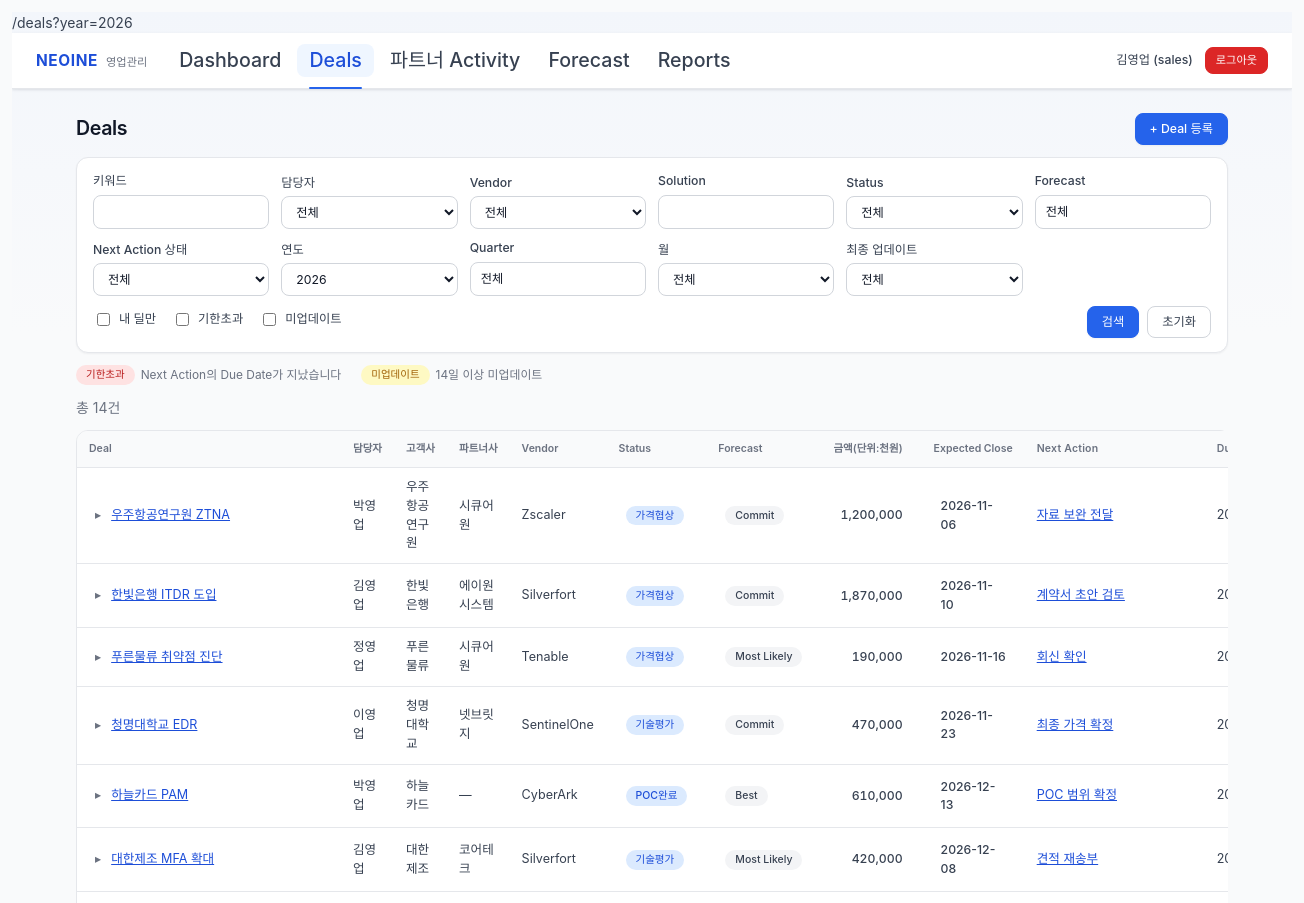
Test case: selecting several forecasts (AC-07·08) › writes one key as a plain value
This screenshot has width=1304, height=903.
Expected: the form named "Deal 필터" is shown, 76,157 -> 1228,353
Click the button named "Forecast " at (1123,212), box 1035,195 -> 1211,229
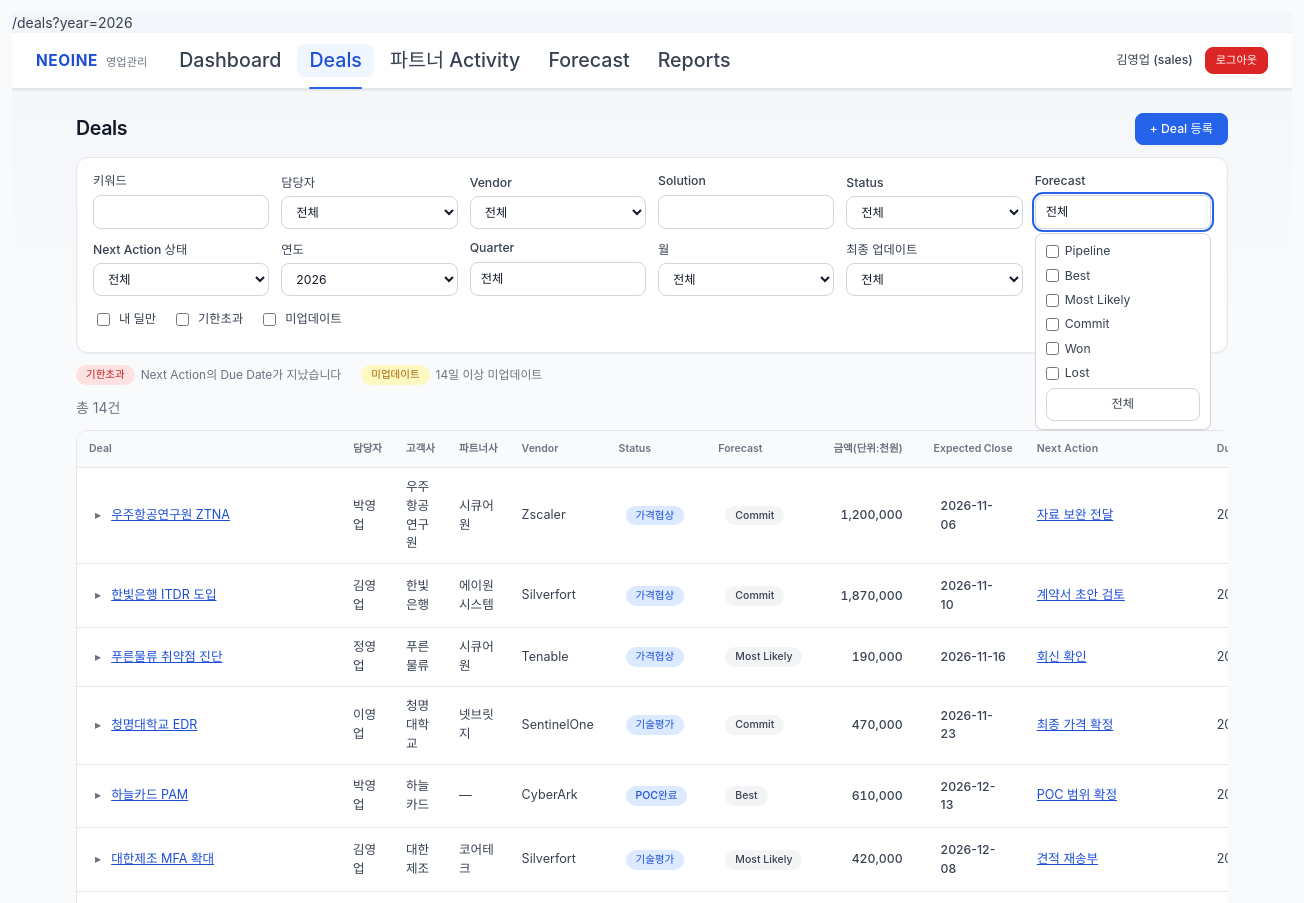
Click the checkbox labelled "Pipeline" at (1052,251), box 1046,245 -> 1059,258
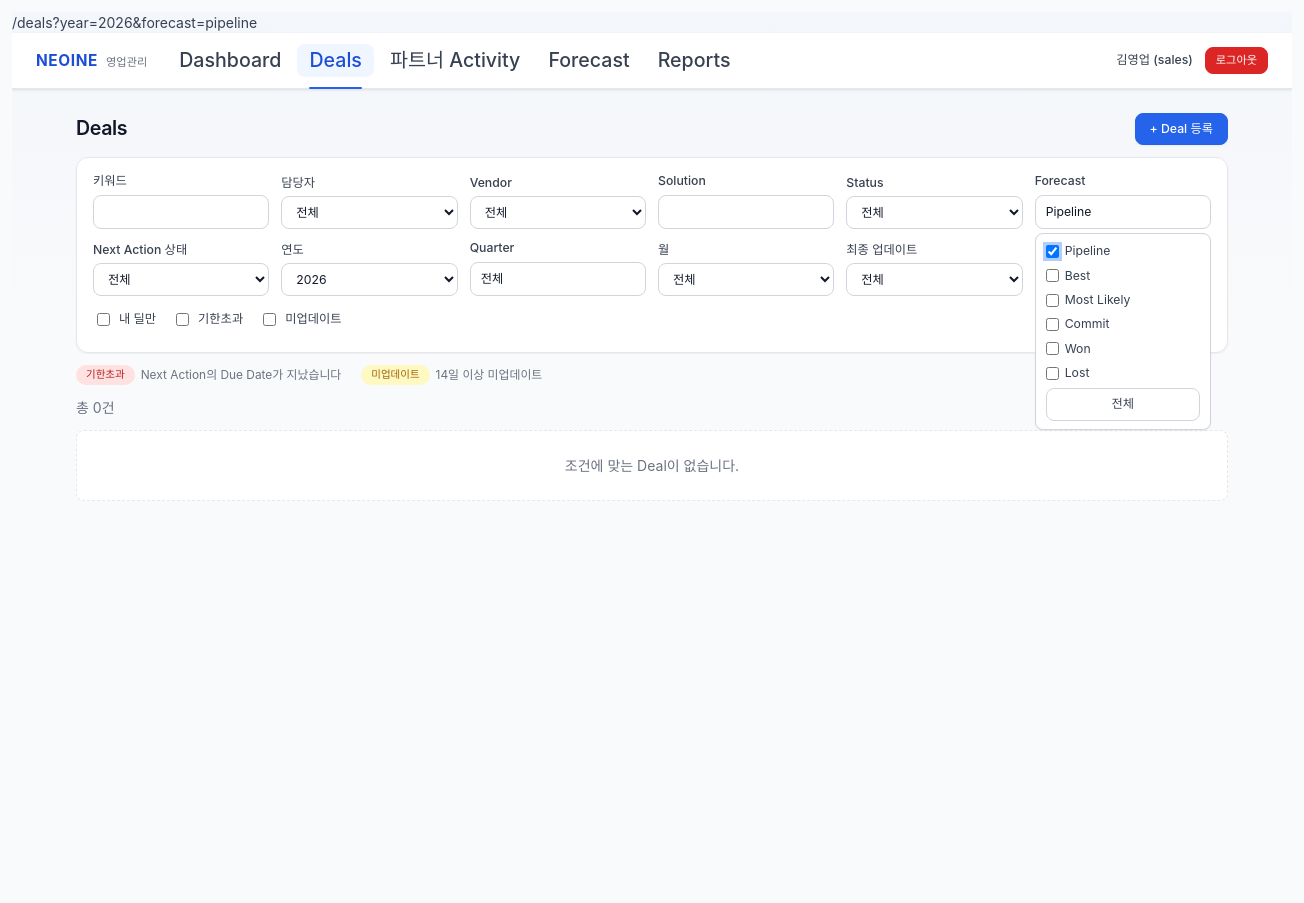
Now the text with test id "location" reads "/deals?year=2026&forecast=pipeline", box 12,14 -> 257,31
